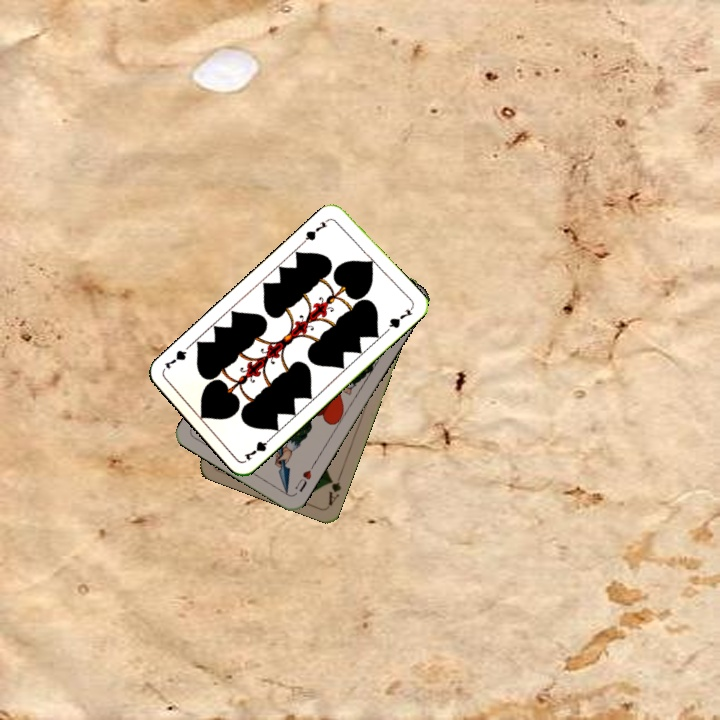G7: (240, 432, 276, 464), (299, 215, 332, 246)
GA: (324, 468, 345, 508)
HU: (291, 460, 317, 495)
